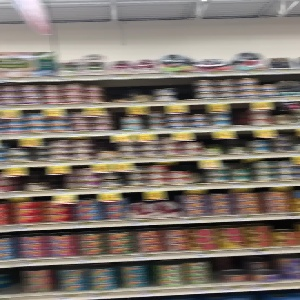void: (232, 103, 253, 130), (175, 79, 195, 101)
